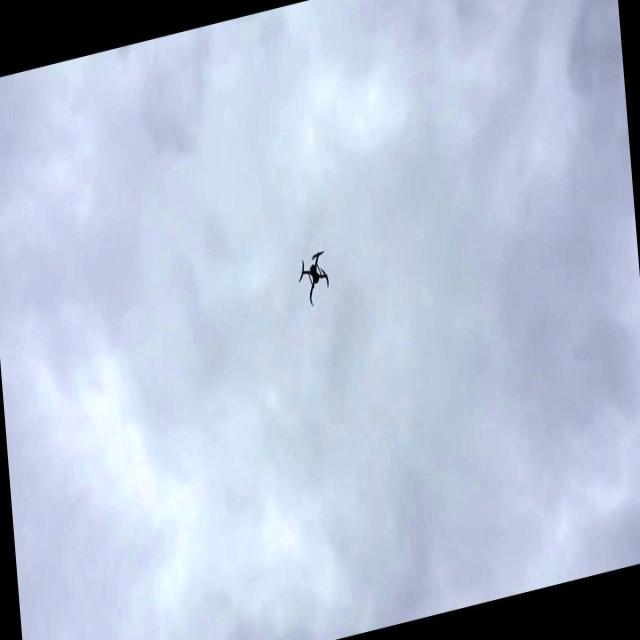drone: (297, 240, 332, 308)
